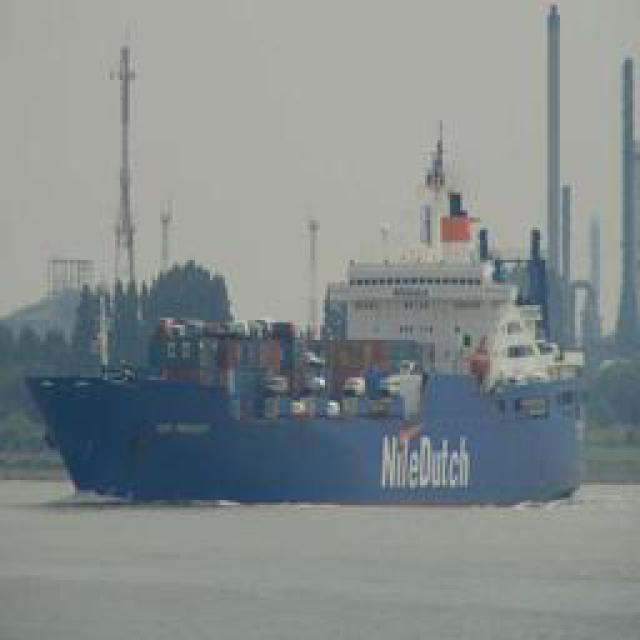Ship: (15, 224, 623, 507)
